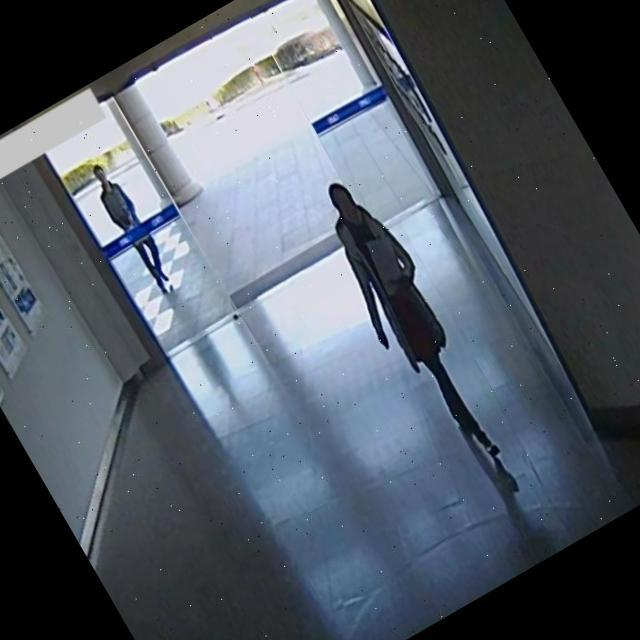person: (288, 161, 530, 492), (74, 148, 192, 306)
